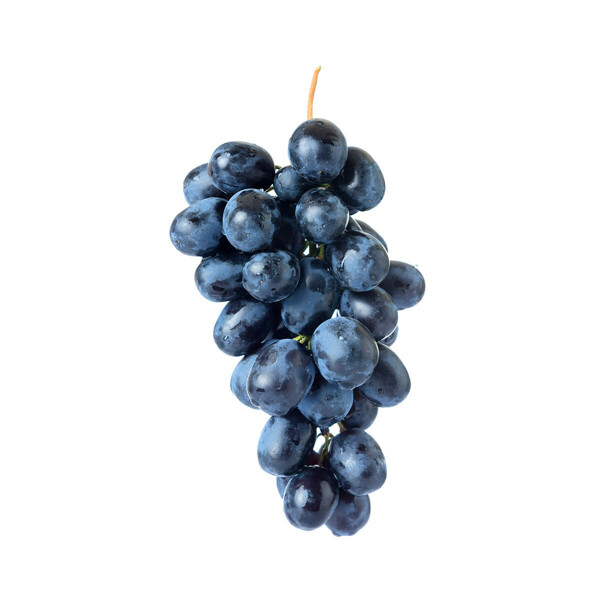Grape: (169, 70, 430, 548)
